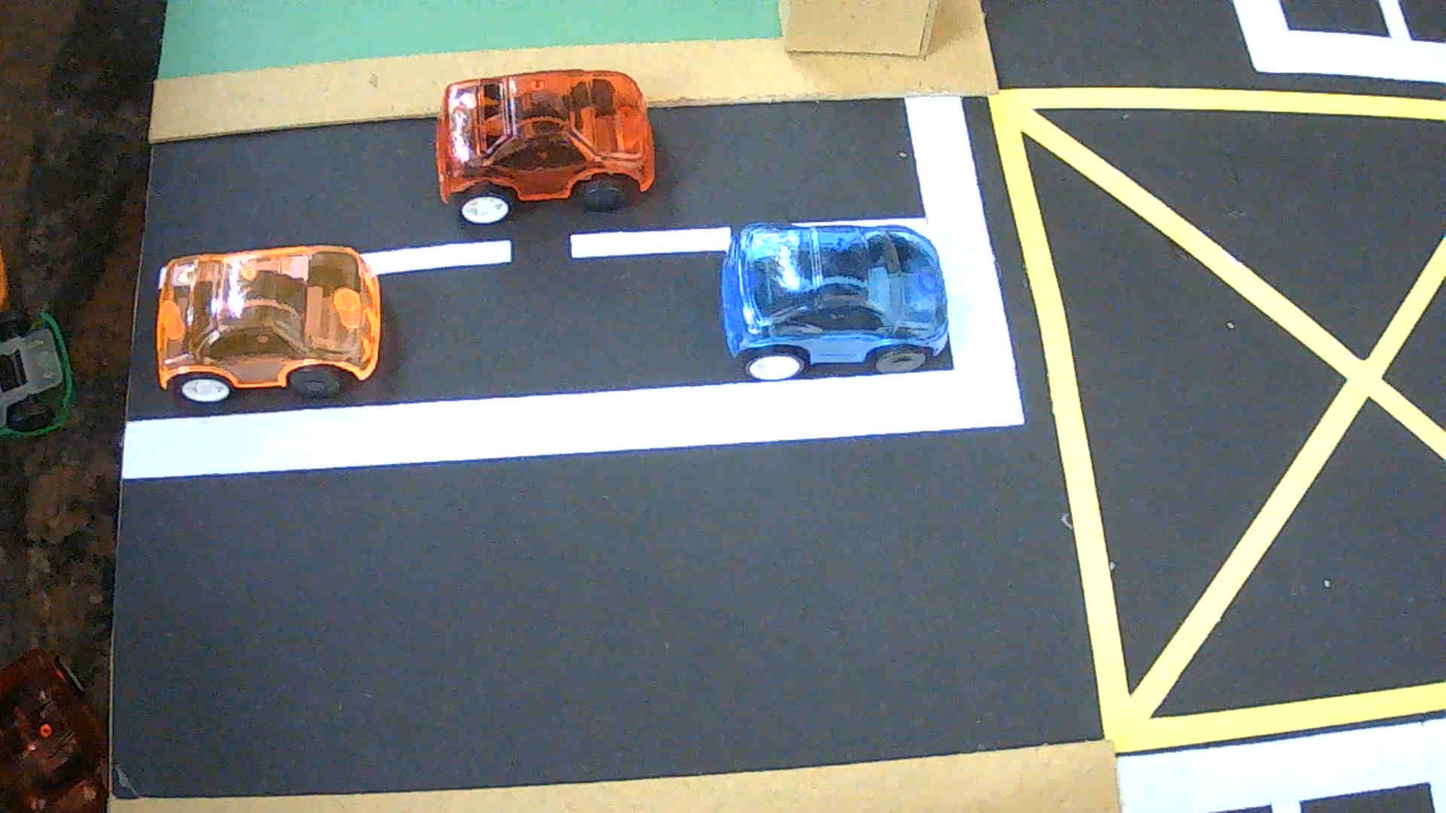Mobil biru: (720, 224, 947, 379)
Mobil merah: (435, 70, 654, 222)
Mobil orange: (154, 245, 382, 403)
